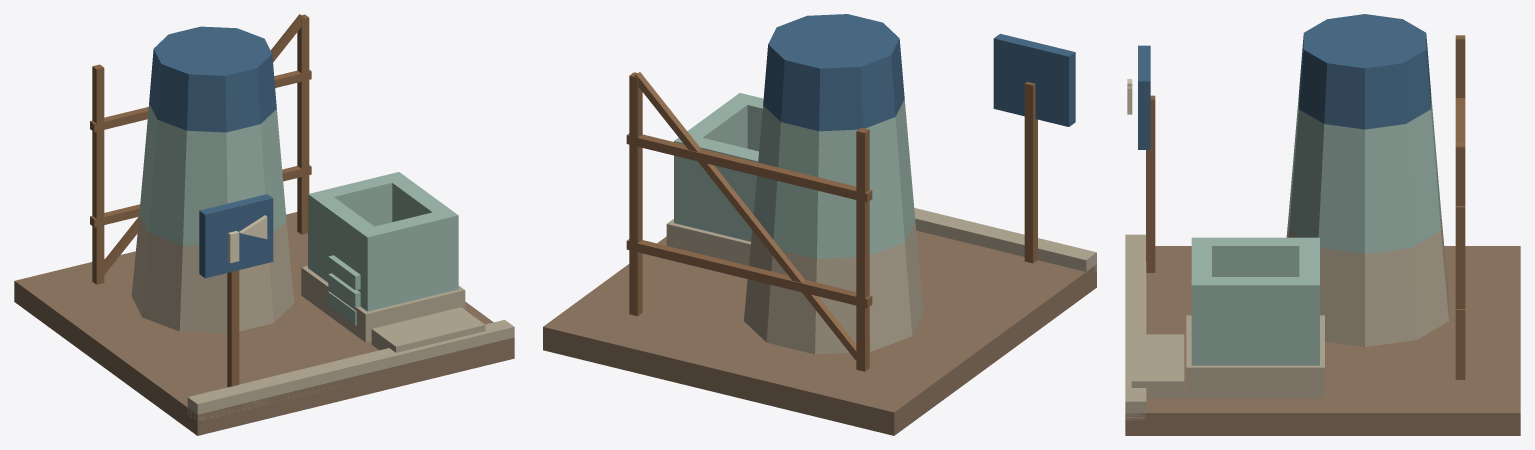
The model's file is lighthouse-seabreeze-half-built.glb.
3 renders of one model, left to right at view 1: azimuth 30°, elevation 25°; view 2: azimuth 150°, elevation 25°; view 3: azimuth 270°, elevation 25°, orthographic. The views are drawn at different scales.
Parts seen in each view (by area): view 1: lighthouse; view 2: lighthouse; view 3: lighthouse.
Boxes of the visible parts, x1,y1,x2,y2 form: lighthouse: [14, 14, 514, 435]; lighthouse: [543, 14, 1096, 435]; lighthouse: [1125, 14, 1520, 435].
Size of the model in its own units: 1.88 by 1.54 by 1.88.
